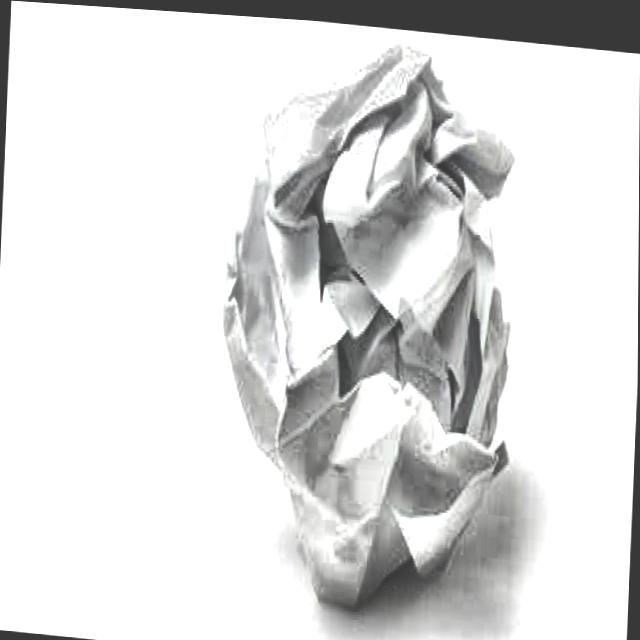Paper: (202, 11, 531, 626)
